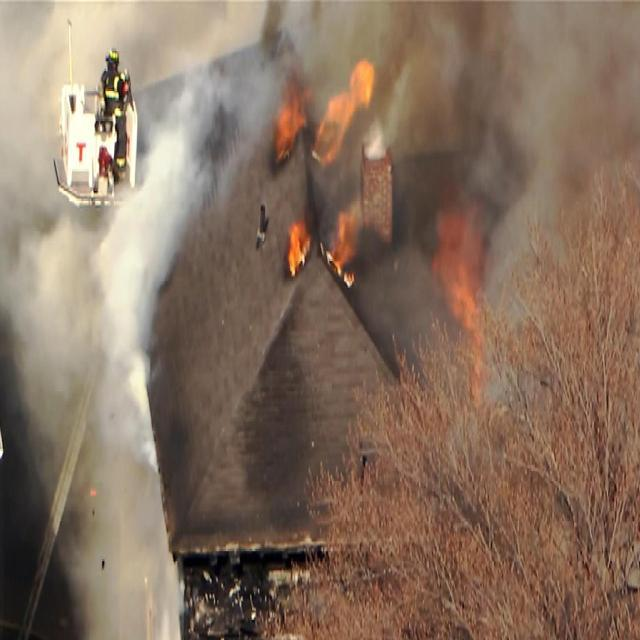Fire: (431, 203, 487, 401), (313, 58, 375, 164), (270, 68, 314, 166), (321, 207, 355, 288), (288, 217, 312, 279), (90, 488, 96, 497)
Smoke: (0, 229, 184, 640), (377, 0, 640, 159), (132, 0, 276, 131), (0, 0, 64, 228), (484, 158, 588, 294), (113, 129, 215, 232), (360, 248, 432, 358), (276, 0, 377, 66), (392, 159, 484, 203)
